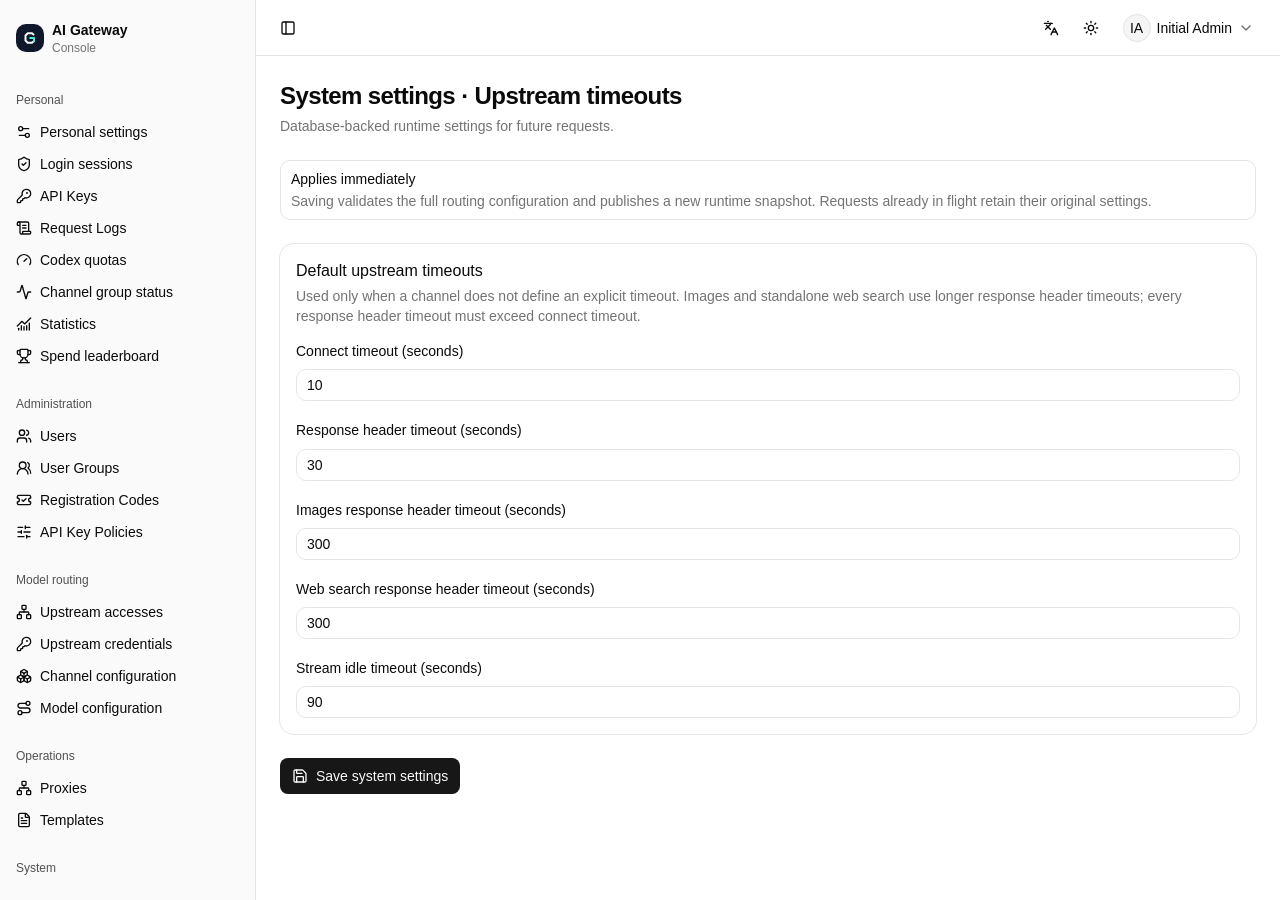
Test case: SystemPage › requires the web-search response-header timeout to exceed the connect timeout
Replace the text in the number field labelled "Web search response header timeout (seconds)" with "10" at [768, 623], box [296,607,1240,639]
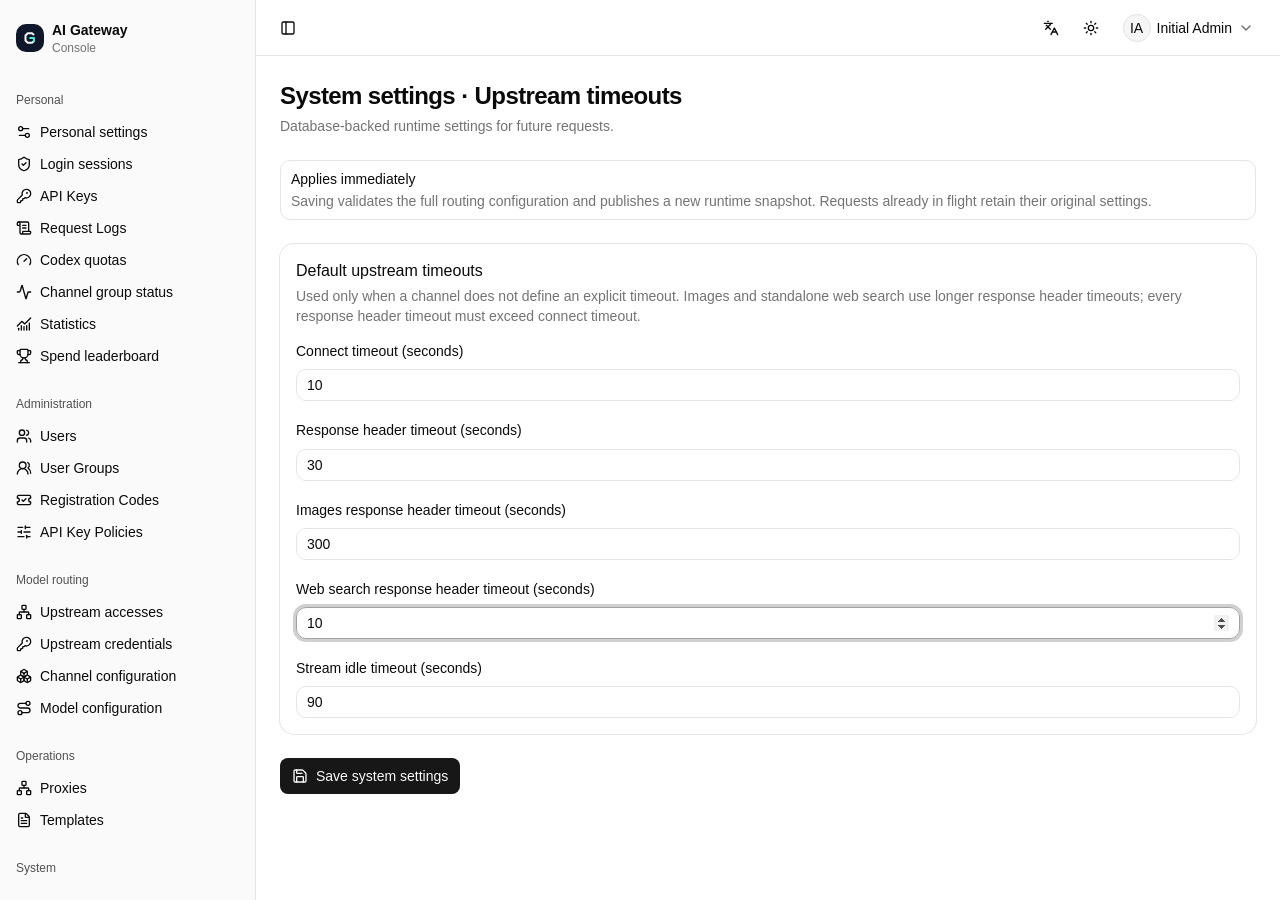
Click the button "Save system settings" at [370, 776], box [280,758,460,794]
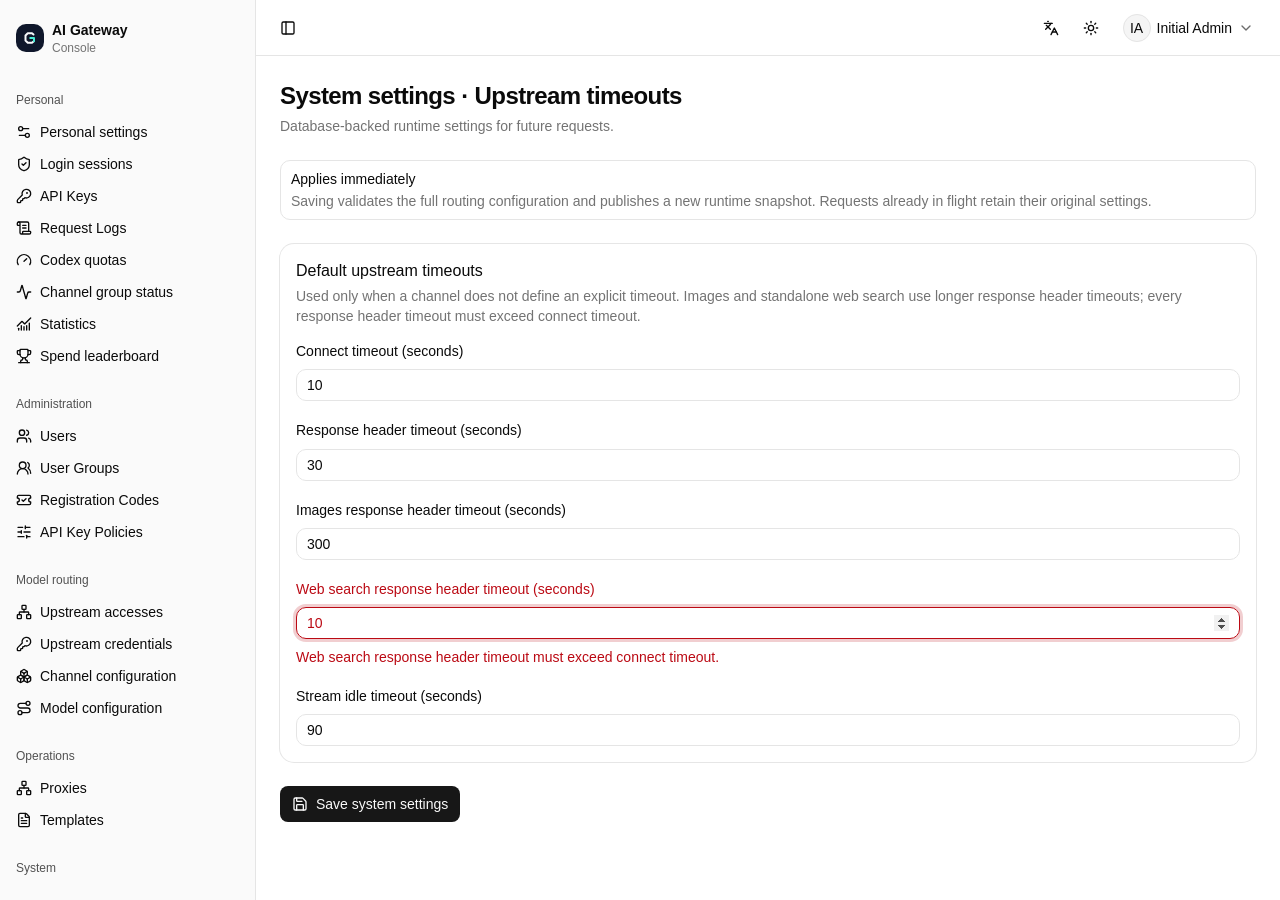
Expected: the text "Web search response header timeout must exceed connect timeout." is shown, [296,649,719,665]
